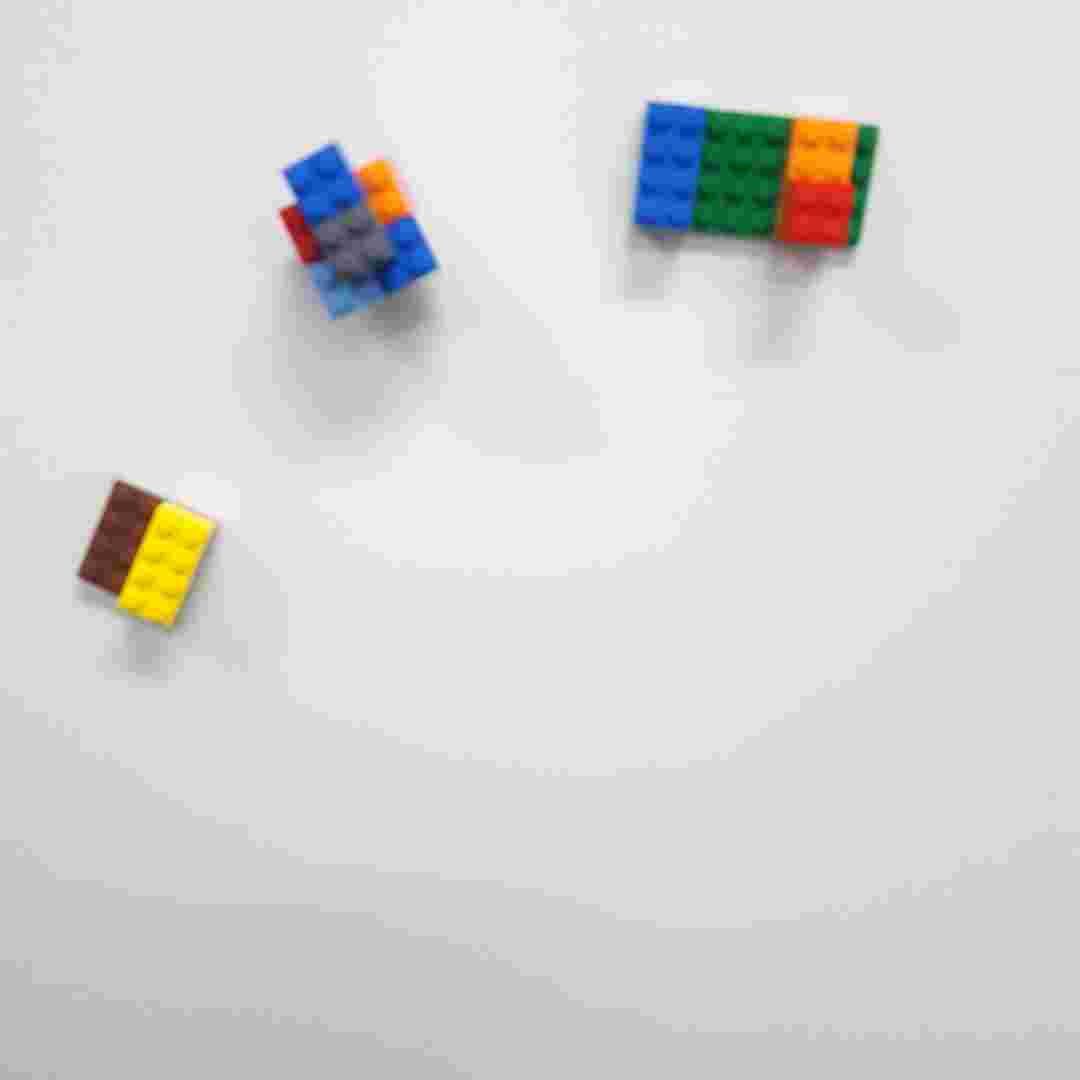LEGO: (630, 102, 882, 252), (272, 135, 441, 324), (74, 479, 223, 628)
